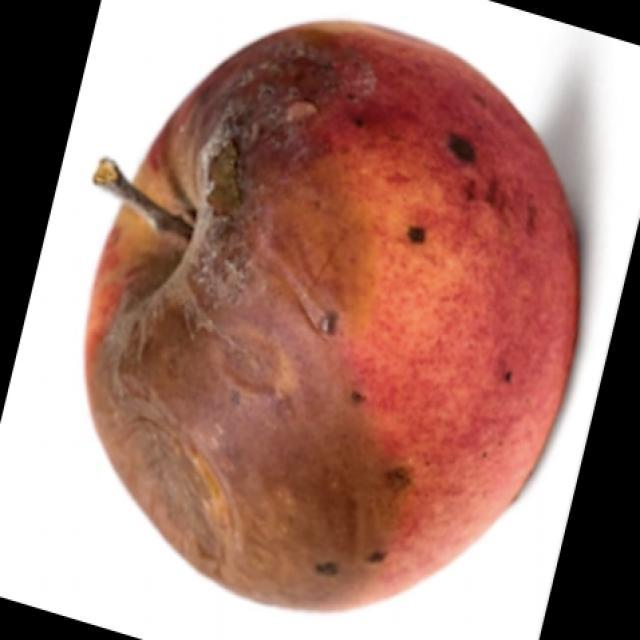Rotten: (87, 30, 573, 588)
